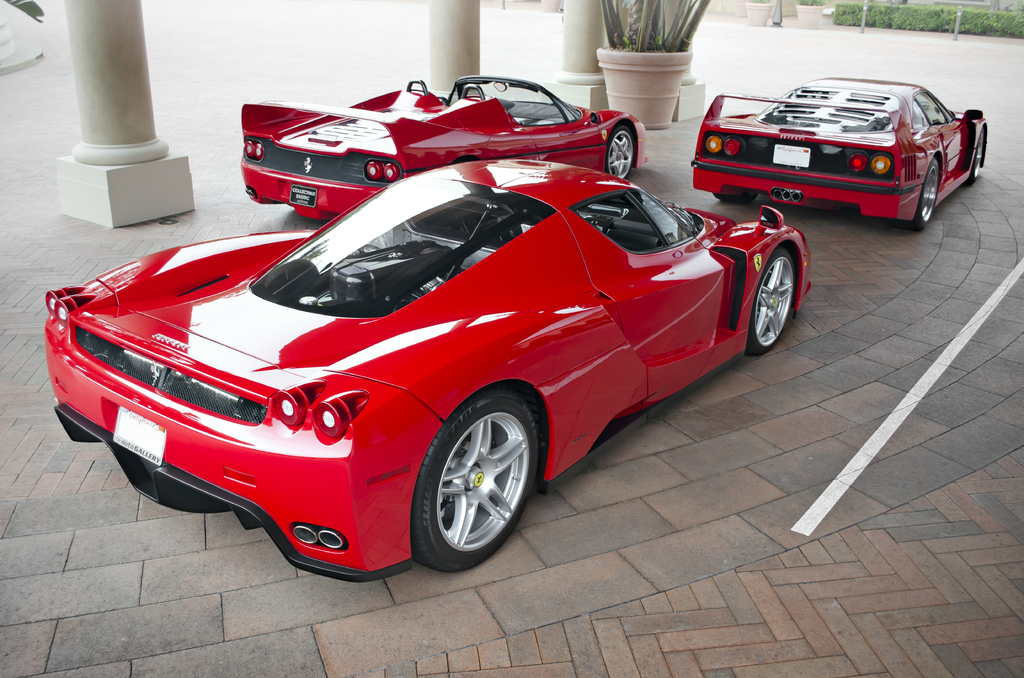Car: (46, 160, 813, 585), (238, 76, 646, 220), (687, 74, 987, 227)
